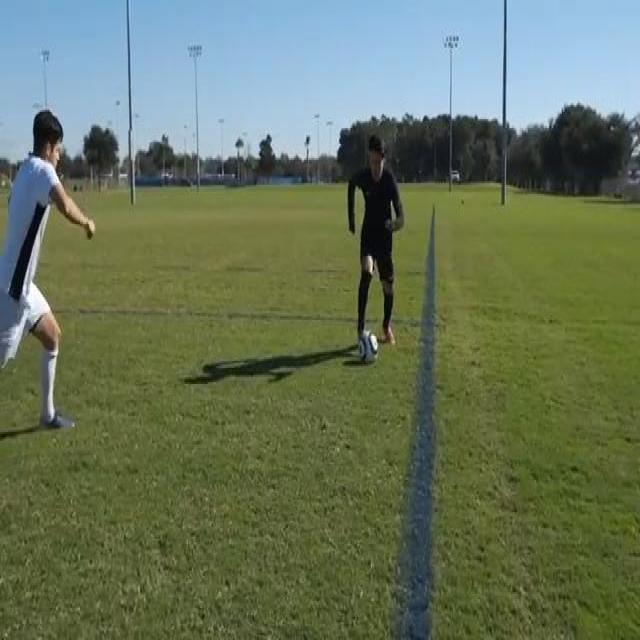Soccer Ball: (356, 330, 378, 365)
